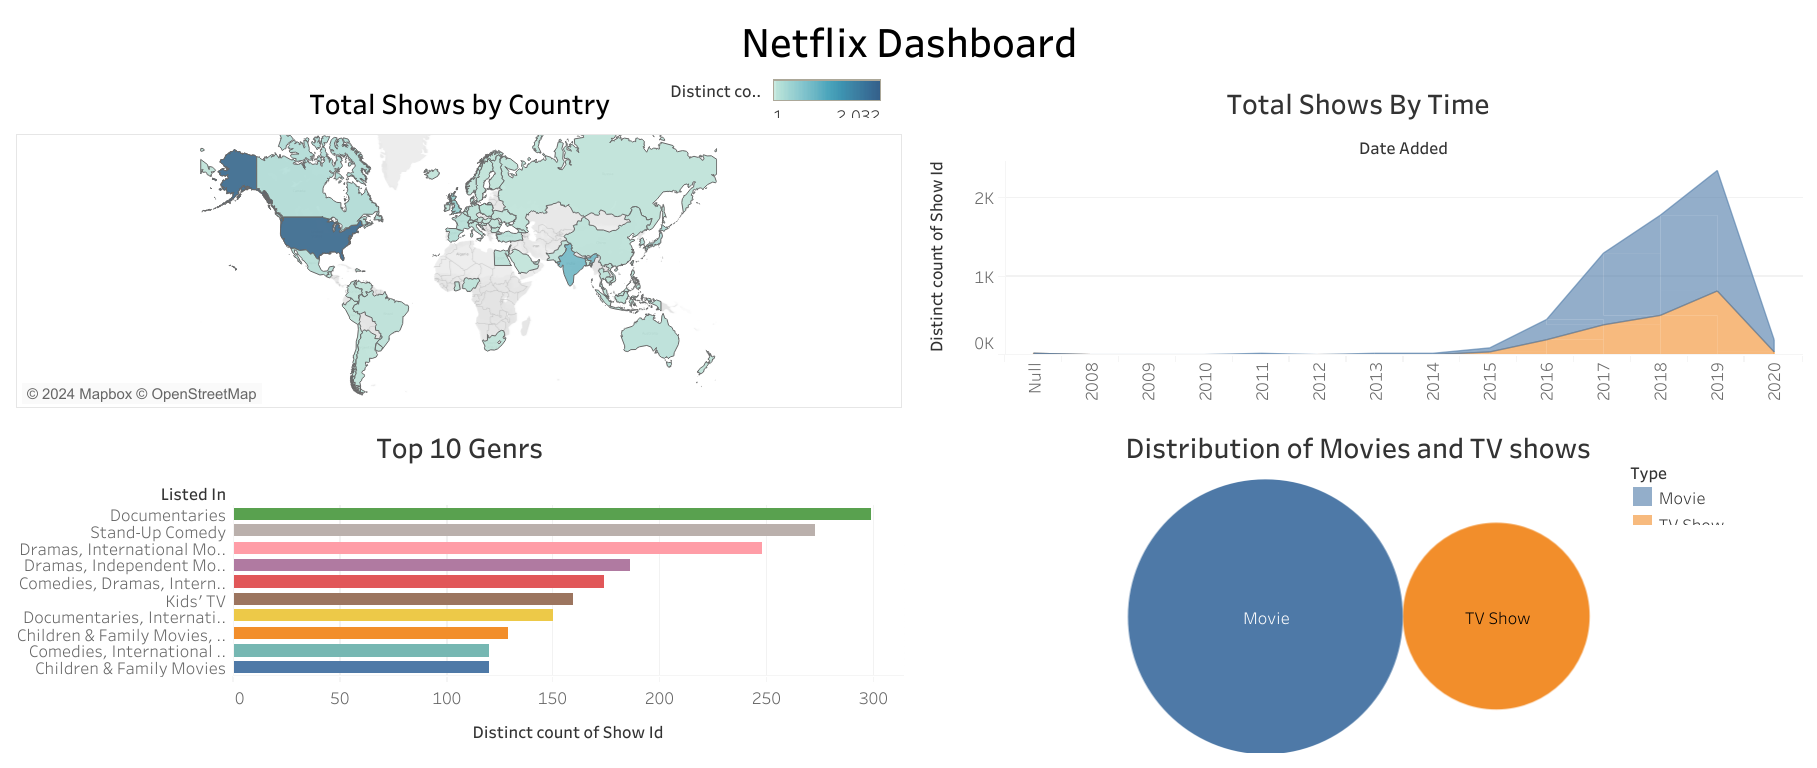

What the dashboard file says about the page in this screenshot:
{"tool":"tableau","page":{"name":"Dashboard 1","canvas":[1000,1000],"units":"permille","ordinal":0},"visuals":[{"type":"text","box":[4.9,10.3,990.2,78.2]},{"type":"worksheet","title":"Sheet 2","mark":"Automatic","box":[4.9,88.5,495.1,450.6]},{"type":"worksheet","title":"Sheet 1","mark":"Area","rows":["show_id"],"cols":["date_added"],"box":[500,88.5,495.1,450.6]},{"type":"legend","title":"Sheet 2","param":"[federated.1lsvs9o0y680h810bhumc0o64o0k].[ctd:show_id:qk]","box":[368.8,96.2,119.3,57.7]},{"type":"worksheet","title":"Sheet 3","mark":"Automatic","rows":["listed_in"],"cols":["show_id"],"box":[4.9,539.1,495.1,450.6]},{"type":"worksheet","title":"Sheet 4","mark":"Circle","box":[500,539.1,495.1,450.6]},{"type":"legend","title":"Sheet 1","param":"[federated.1lsvs9o0y680h810bhumc0o64o0k].[none:type:nk]","box":[895.4,594.9,85.6,88.5]}]}

Visuals, with their boxes on the dashboard's canvas, which has no fixed pixel size, in thousandths of its width and height (x1, y1, x2, y2). These are canvas units, not pixel positions in the 1817x768 screenshot, which may show the page scaled, cropped or inside an application window:
text: detection(5, 10, 995, 88)
"Sheet 2" worksheet: detection(5, 88, 500, 539)
"Sheet 1" worksheet (Area marks): detection(500, 88, 995, 539)
"Sheet 2" legend: detection(369, 96, 488, 154)
"Sheet 3" worksheet: detection(5, 539, 500, 990)
"Sheet 4" worksheet (Circle marks): detection(500, 539, 995, 990)
"Sheet 1" legend: detection(895, 595, 981, 683)
